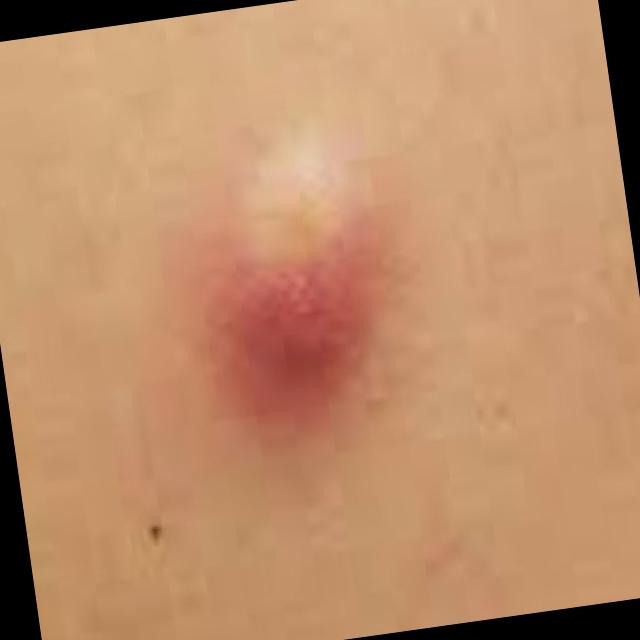nodule: (170, 110, 398, 400)
